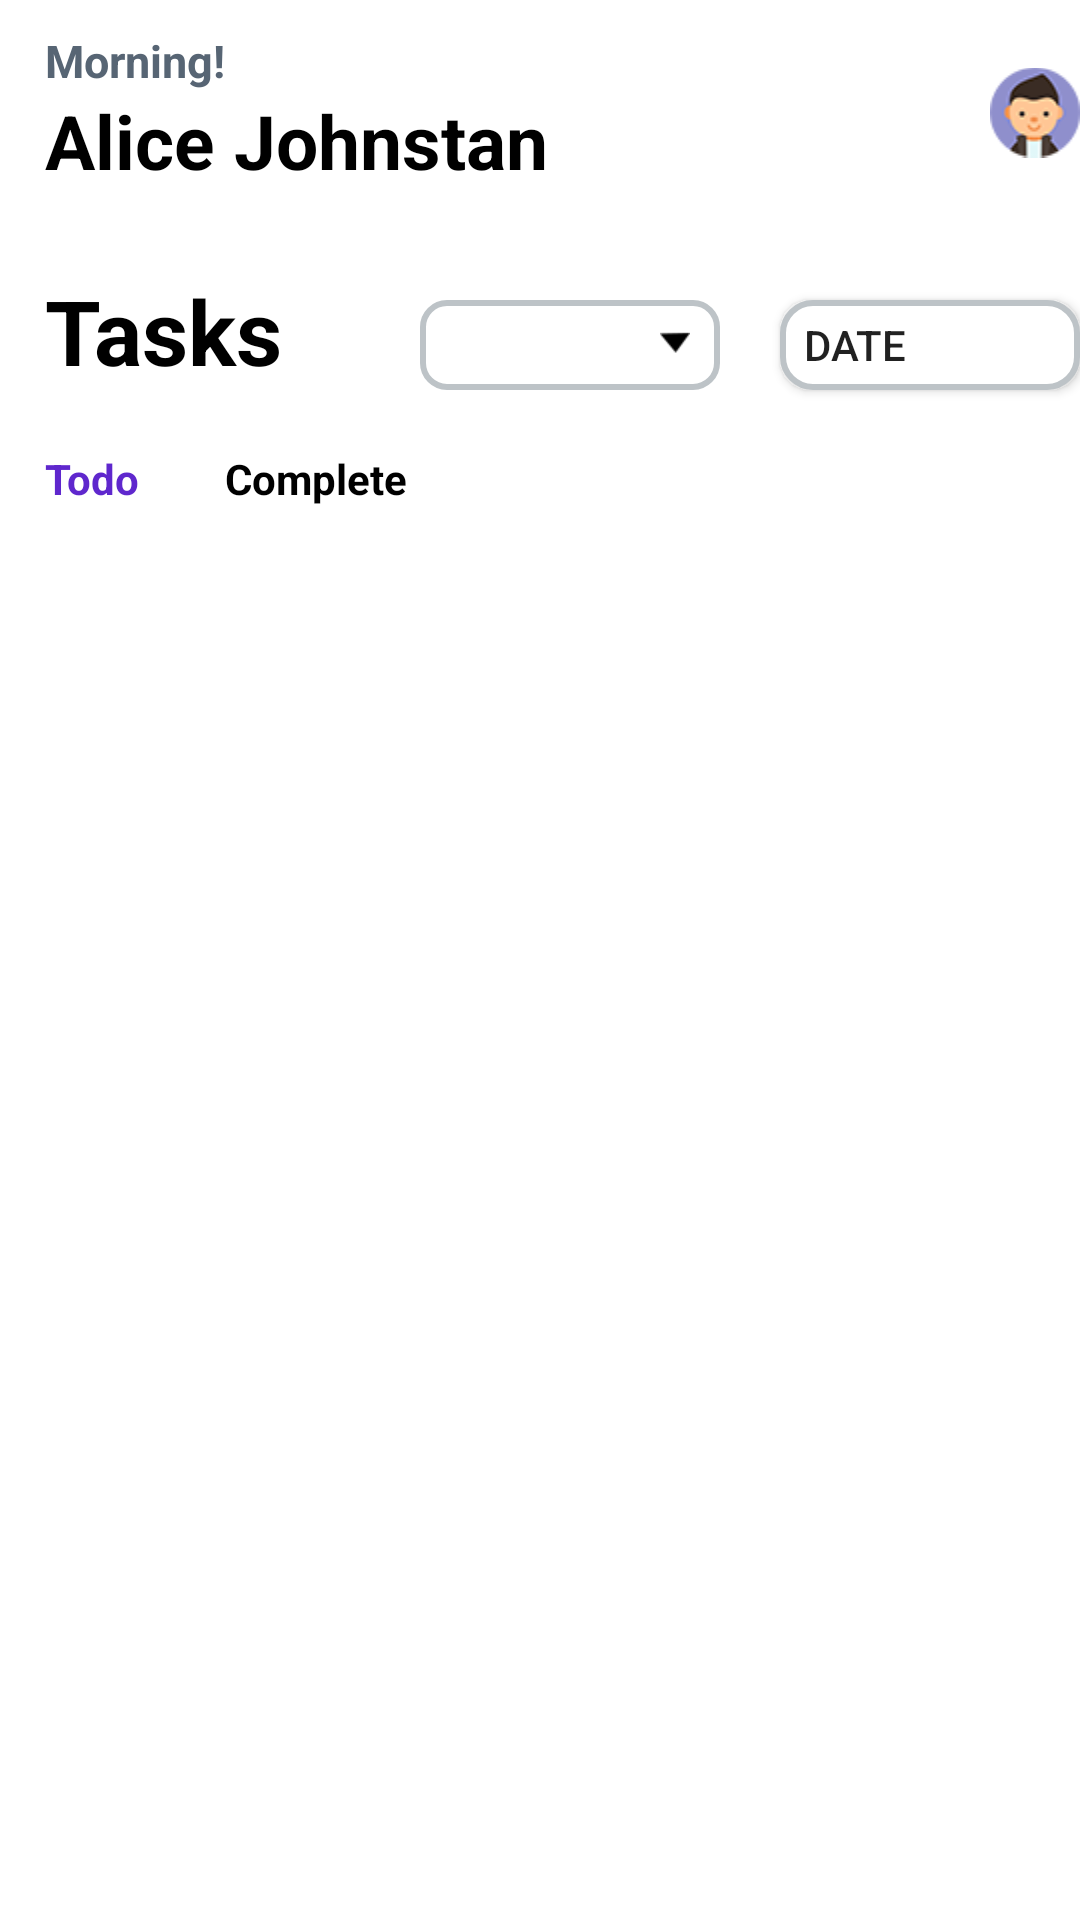

Named icons in this screenshot (1080w x 1920h) and their centers, (x=x, y=y):
user profile: (x=1035, y=113)
